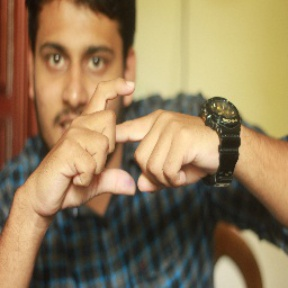E: (72, 75, 167, 199)
